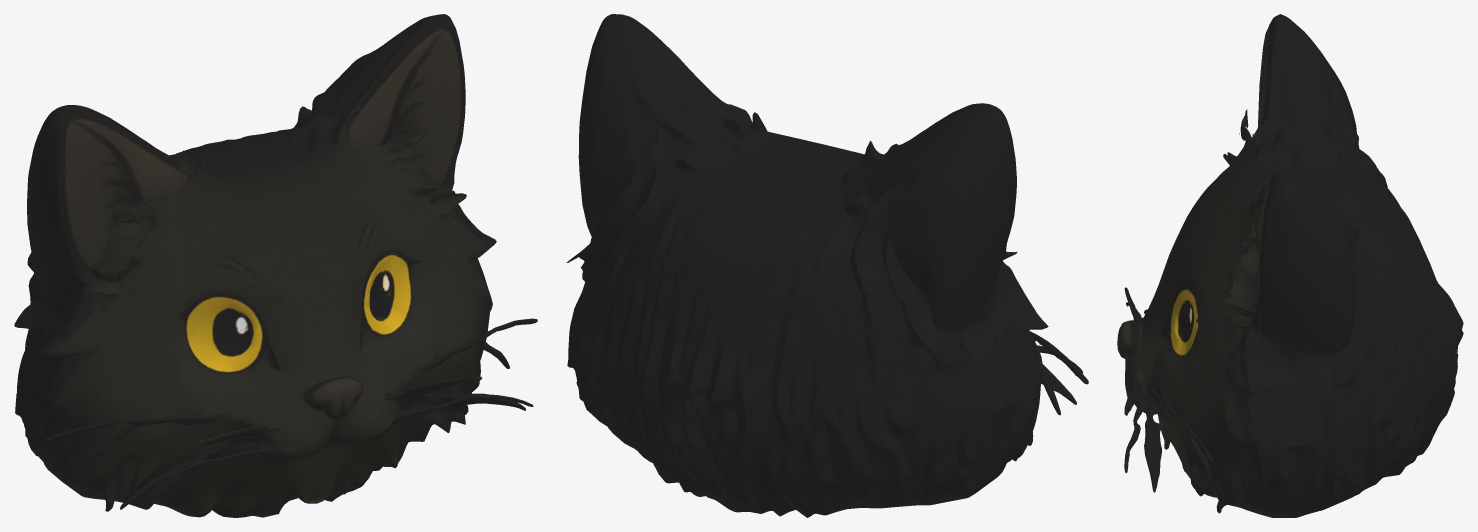
The model's file is bmo.glb.
3 views of the same model, side by side, from view 1: azimuth 30°, elevation 25°; view 2: azimuth 150°, elevation 25°; view 3: azimuth 270°, elevation 25° (orthographic). The views are drawn at different scales.
Visible parts, largest first — view 1: geometry_0; view 2: geometry_0; view 3: geometry_0.
Boxes of the visible parts, left/top/right/bottom form: geometry_0: left=14, top=14, right=537, bottom=517; geometry_0: left=566, top=14, right=1088, bottom=517; geometry_0: left=1117, top=14, right=1463, bottom=517.
Size of the model in its own units: 0.999 by 0.8203 by 0.6842.
1 material, 1 textured.
